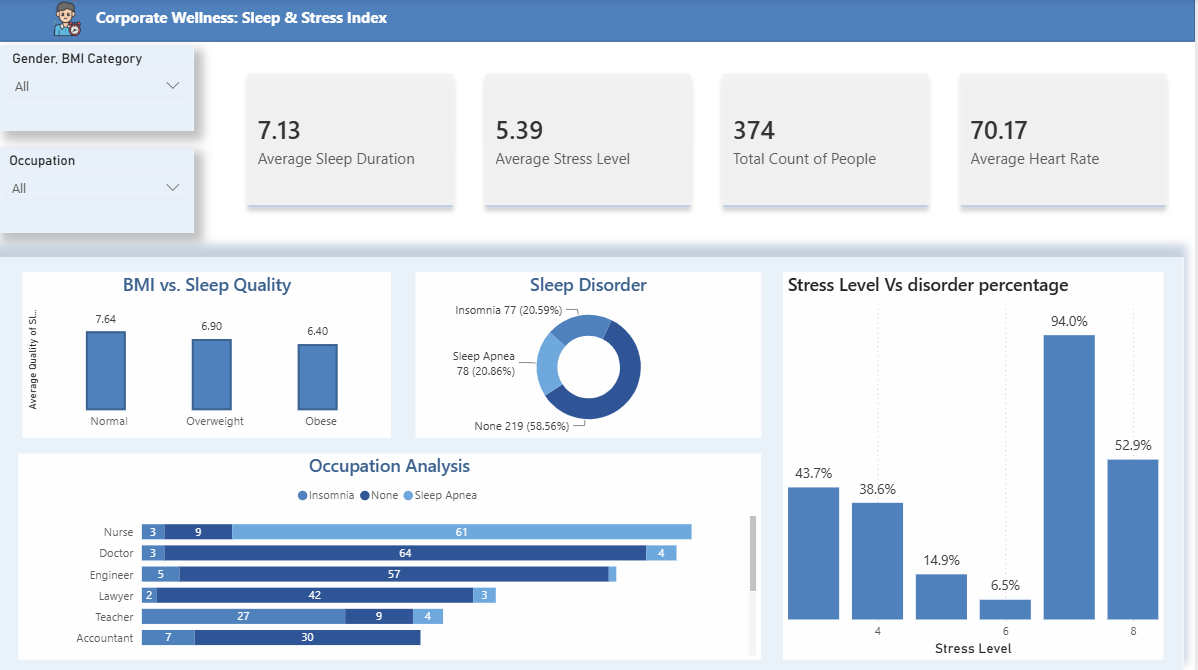

What the dashboard file says about the page in this screenshot:
{"tool":"powerbi","page":{"name":"OverView","canvas":[1280,720],"ordinal":0},"visuals":[{"type":"group","id":"g1","title":"Group 1","box":[9.8,0,1270.6,45.2],"z":0},{"type":"shape","box":[9.8,0,1270.6,45.2],"z":0,"group":"g1"},{"type":"textbox","box":[85.2,3.5,368.9,31.9],"z":1000,"group":"g1"},{"type":"slicer","fields":{"Values":["Sleep_health_and_lifestyle_dataset.Occupation"]},"box":[9.5,157.5,208.4,90.7],"z":1000},{"type":"image","box":[47,0,76.3,39],"z":2000,"group":"g1"},{"type":"cardVisual","fields":{"Data":["Avg(Sleep_health_and_lifestyle_dataset.Sleep Duration)","Avg(Sleep_health_and_lifestyle_dataset.Stress Level)","CountNonNull(Sleep_health_and_lifestyle_dataset.Person ID)","Avg(Sleep_health_and_lifestyle_dataset.Heart Rate)"]},"box":[244.9,49.3,1034.8,200],"z":2000},{"type":"shape","box":[0,273.6,1267.9,439.6],"z":3000},{"type":"slicer","fields":{"Values":["Sleep_health_and_lifestyle_dataset.Gender","Sleep_health_and_lifestyle_dataset.BMI Category"]},"box":[12.7,49.3,205.2,90.7],"z":4000},{"type":"donutChart","title":"Sleep Disorder","fields":{"Y":["CountNonNull(Sleep_health_and_lifestyle_dataset.Sleep Disorder)"],"Category":["Sleep_health_and_lifestyle_dataset.Sleep Disorder"]},"box":[453.7,289.6,366.6,176.2],"z":5000},{"type":"barChart","title":"Occupation Analysis","fields":{"Y":["Count(Sleep_health_and_lifestyle_dataset.Person ID)"],"Category":["Sleep_health_and_lifestyle_dataset.Occupation"],"Series":["Sleep_health_and_lifestyle_dataset.Sleep Disorder"]},"box":[32.4,482,787.8,218.7],"z":7000},{"type":"clusteredColumnChart","title":"BMI vs. Sleep Quality","fields":{"Category":["Sleep_health_and_lifestyle_dataset.BMI Category"],"Y":["Avg(Sleep_health_and_lifestyle_dataset.Quality of Sleep)"]},"box":[36.5,289.6,390.9,176.2],"z":8000},{"type":"clusteredColumnChart","title":"Stress Level Vs disorder percentage","fields":{"Category":["Sleep_health_and_lifestyle_dataset.Stress Level"],"Y":["Sleep_health_and_lifestyle_dataset.% With Disorder"]},"box":[842.5,289.6,403,411.1],"z":8002}]}

Visuals, with their boxes in screenshot pixels (x1, y1, x2, y2), scaled from the page's 1280x720 canvas onto the 1198x670 screenshot:
"Group 1" group: {"x1": 9, "y1": 0, "x2": 1197, "y2": 42}
shape: {"x1": 9, "y1": 0, "x2": 1197, "y2": 42}
textbox: {"x1": 80, "y1": 3, "x2": 425, "y2": 33}
slicer - Sleep_health_and_lifestyle_dataset.Occupation: {"x1": 9, "y1": 147, "x2": 204, "y2": 231}
image: {"x1": 44, "y1": 0, "x2": 115, "y2": 36}
cardVisual - Avg(Sleep_health_and_lifestyle_dataset.Sleep Duration) x Avg(Sleep_health_and_lifestyle_dataset.Stress Level): {"x1": 229, "y1": 46, "x2": 1197, "y2": 232}
shape: {"x1": 0, "y1": 255, "x2": 1187, "y2": 664}
slicer - Sleep_health_and_lifestyle_dataset.Gender x Sleep_health_and_lifestyle_dataset.BMI Category: {"x1": 12, "y1": 46, "x2": 204, "y2": 130}
"Sleep Disorder" donutChart: {"x1": 425, "y1": 269, "x2": 768, "y2": 433}
"Occupation Analysis" barChart: {"x1": 30, "y1": 449, "x2": 768, "y2": 652}
"BMI vs. Sleep Quality" clusteredColumnChart: {"x1": 34, "y1": 269, "x2": 400, "y2": 433}
"Stress Level Vs disorder percentage" clusteredColumnChart: {"x1": 789, "y1": 269, "x2": 1166, "y2": 652}
